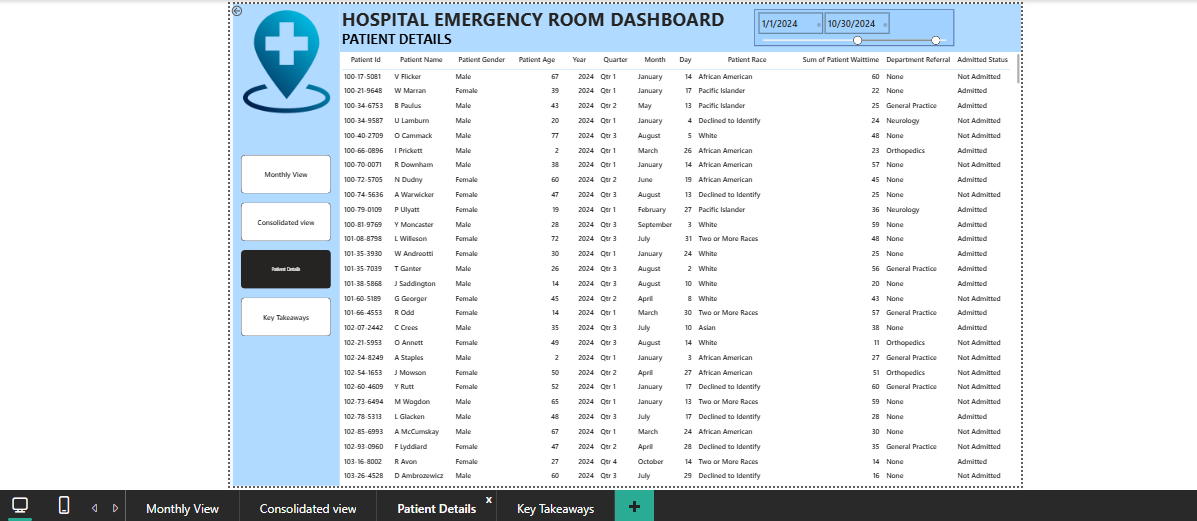

What the dashboard file says about the page in this screenshot:
{"tool":"powerbi","page":{"name":"Patient Details","canvas":[2300,1400],"ordinal":2},"visuals":[{"type":"shape","box":[9.1,0,310,1399],"z":0},{"type":"shape","box":[319.9,0,1981,140],"z":1000},{"type":"textbox","box":[319.5,0,1263.5,84.2],"z":2000},{"type":"textbox","box":[319.5,69.7,429.9,69.7],"z":3000},{"type":"slicer","fields":{"Values":["Date Table.Date"]},"box":[1522,14.5,580.9,107.5],"z":4000},{"type":"actionButton","box":[0,0,100,40],"z":5000},{"type":"image","box":[14.7,17.6,300,300],"z":6000},{"type":"tableEx","fields":{"Values":["Hospital ER_Data.Patient Id","Hospital ER_Data.Patient Full Name ","Hospital ER_Data.Patient Gender","Sum(Hospital ER_Data.Patient Age)","Hospital ER_Data.Patient Admission Date.Variation.Date Hierarchy.Year","Hospital ER_Data.Patient Admission Date.Variation.Date Hierarchy.Quarter","Hospital ER_Data.Patient Admission Date.Variation.Date Hierarchy.Month","Hospital ER_Data.Patient Admission Date.Variation.Date Hierarchy.Day","Hospital ER_Data.Patient Race","Sum(Hospital ER_Data.Patient Waittime)","Hospital ER_Data.Department Referral","Hospital ER_Data.Admitted Status"]},"box":[320,140,1980,1259],"z":7000},{"type":"pageNavigator","box":[32.4,438.2,261.8,526.5],"z":8000}]}

Visuals, with their boxes on the page's 2300x1400 design canvas (x1, y1, x2, y2). These are canvas units, not pixel positions in the 1197x521 screenshot, which may show the page scaled, cropped or inside an application window:
shape: select_region(9, 0, 319, 1399)
shape: select_region(320, 0, 2301, 140)
textbox: select_region(320, 0, 1583, 84)
textbox: select_region(320, 70, 749, 139)
slicer - Date Table.Date: select_region(1522, 14, 2103, 122)
actionButton: select_region(0, 0, 100, 40)
image: select_region(15, 18, 315, 318)
tableEx - Hospital ER_Data.Patient Id x Hospital ER_Data.Patient Full Name : select_region(320, 140, 2300, 1399)
pageNavigator: select_region(32, 438, 294, 965)
